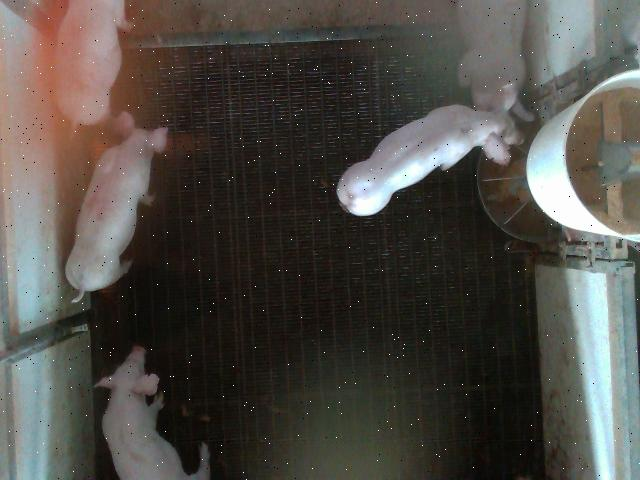pig-4: (65, 112, 166, 302)
